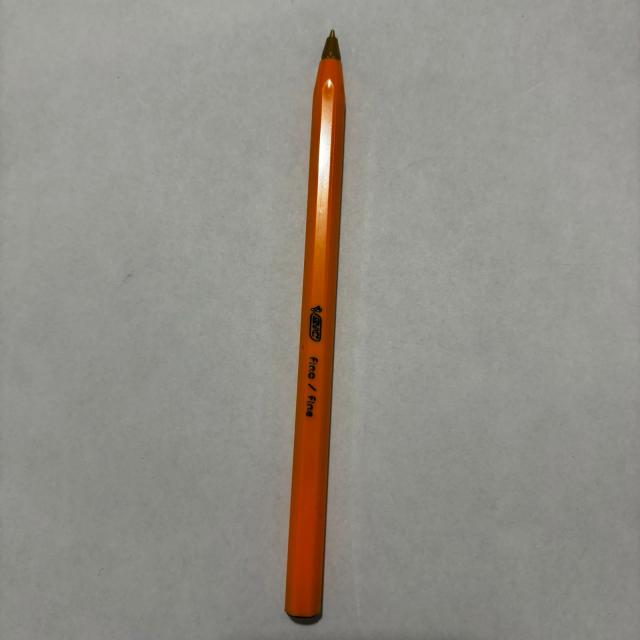pencil: (285, 32, 346, 628)
